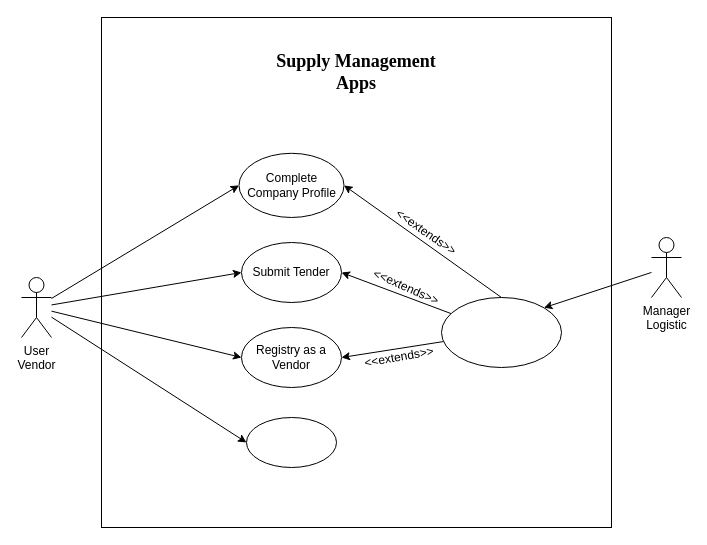
This 707x545 diagram has some shape labels left out. The shapes that lost their labels are listed below. From the top down, each one's box as (x1, y1, x2, y2) in pixels, then its label:
(440, 296, 562, 368): Approval or Reject Vendor Registry
(246, 416, 336, 468): Login & Logout
